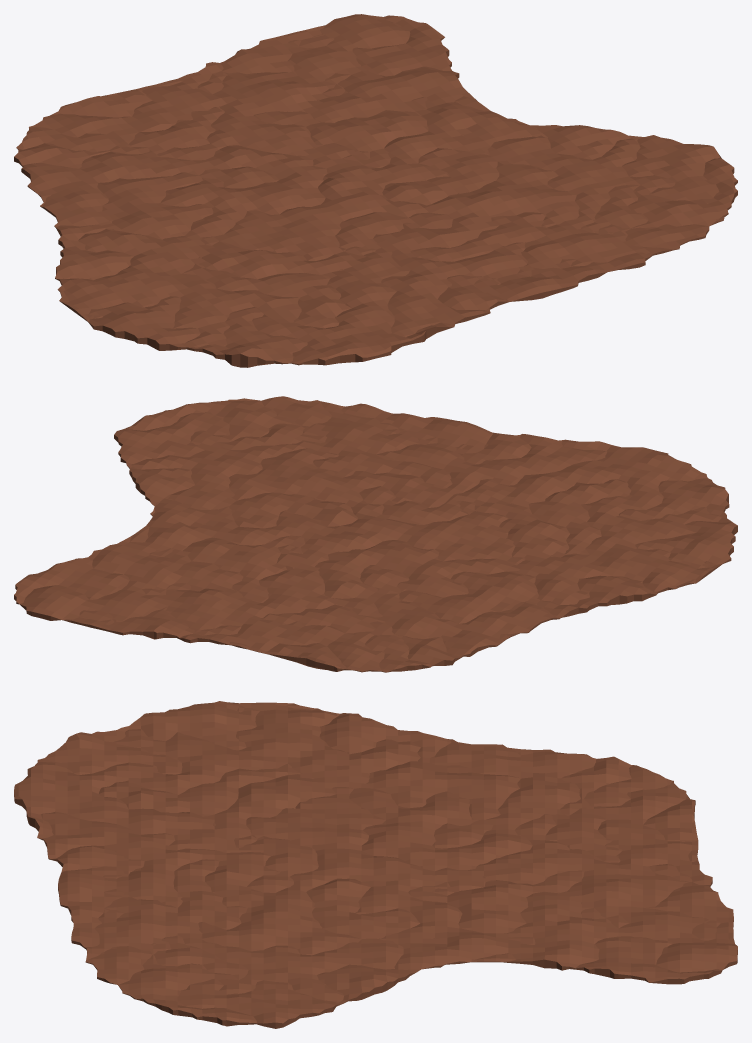
The model's file is Floor.fbx.
The picture shows the model from 3 angles, top to bottom: view 1: azimuth 30°, elevation 25°; view 2: azimuth 150°, elevation 25°; view 3: azimuth 270°, elevation 25°; orthographic projection. The views are drawn at different scales.
Parts seen in each view (by area): view 1: BezierCircle.001; view 2: BezierCircle.001; view 3: BezierCircle.001.
Part boxes in pixels (x1,y1,x2,y2): BezierCircle.001: (14, 14, 737, 367); BezierCircle.001: (14, 396, 737, 672); BezierCircle.001: (14, 701, 737, 1028).
Bounding box in the file's own units: 625 × 14.57 × 591.
